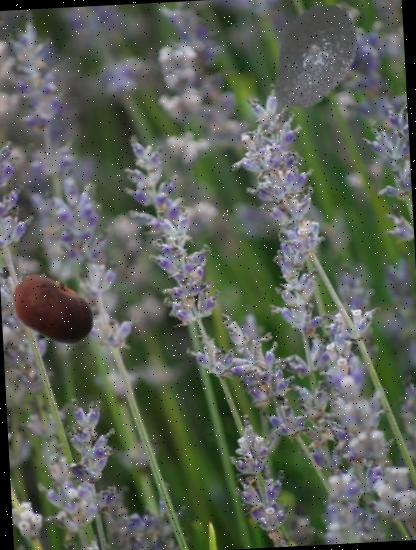Avocado: (254, 0, 372, 116)
Nectarine: (7, 263, 98, 354)
